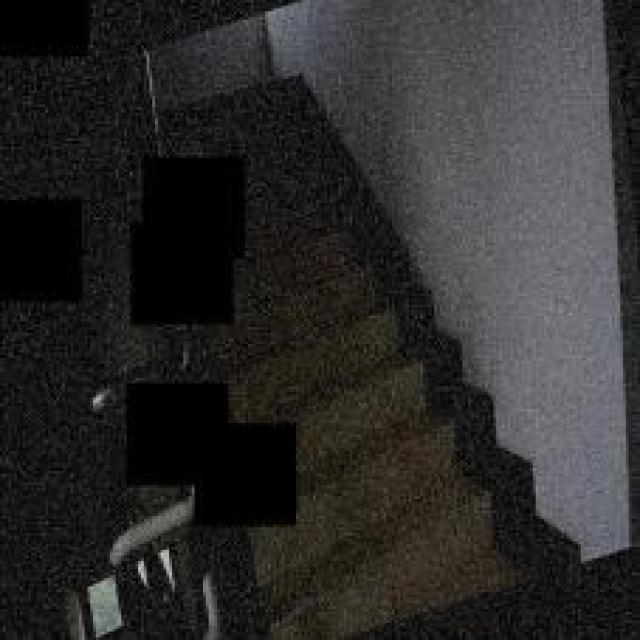upstair: (243, 278, 458, 416)
